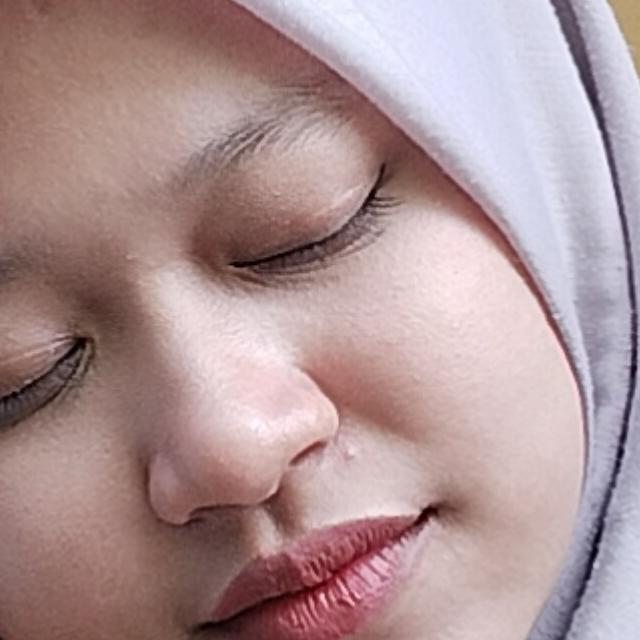tidur: (0, 358, 556, 640)
